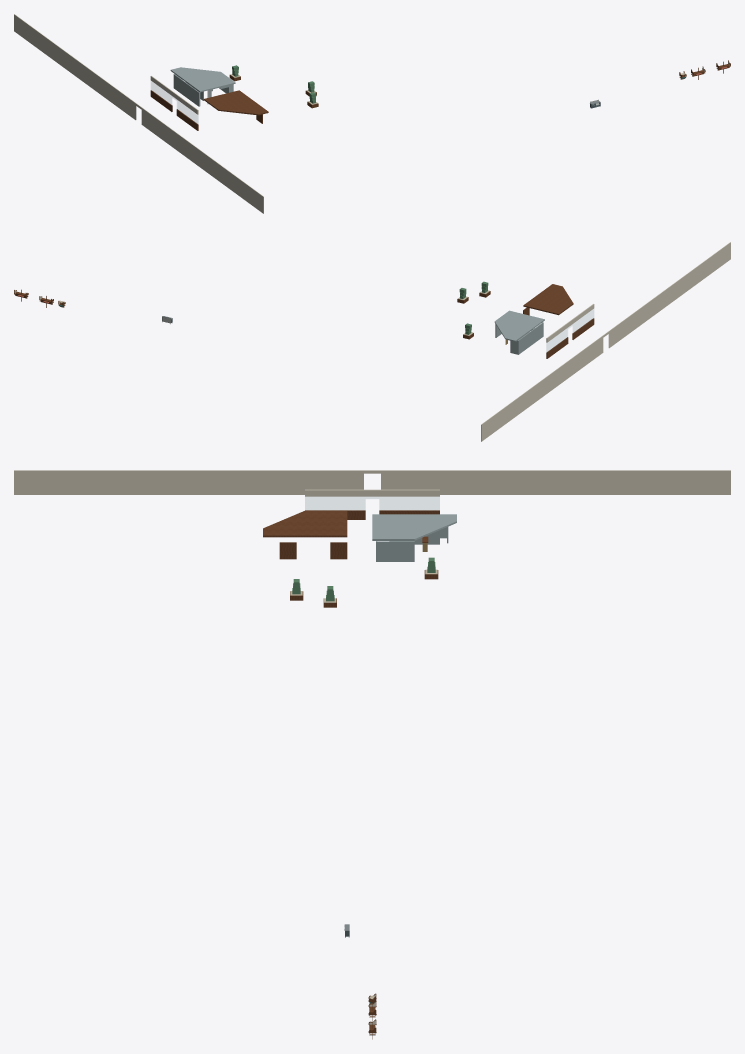
The model's file is D04_PORT_CENTRAL_COMMONS_PATCH_r001.glb.
3 views of the same model, one above another, from view 1: azimuth 30°, elevation 25°; view 2: azimuth 150°, elevation 25°; view 3: azimuth 270°, elevation 25° (orthographic). The views are drawn at different scales.
Visible parts, largest first — view 1: PCW_EastEnclosure4, PCC_QuietLowCanopy, PCC_ServiceLowCanopy, PCC_ServiceWest, PCC_PerimeterGlass_11_0, PCC_PerimeterDado_11_0; view 2: PCW_EastEnclosure4, PCC_ServiceLowCanopy, PCC_QuietLowCanopy, PCC_ServiceWest, PCC_PerimeterGlass_11_0, PCC_PerimeterDado_11_0; view 3: PCW_EastEnclosure4, PCC_QuietLowCanopy, PCC_ServiceLowCanopy, PCC_PerimeterGlass_11_0, PCC_PerimeterHead_11_0.
Boxes of the visible parts, x1,y1,x2,y2 form: PCW_EastEnclosure4: (14,14,263,213); PCC_QuietLowCanopy: (203,90,268,115); PCC_ServiceLowCanopy: (170,67,235,92); PCC_ServiceWest: (173,74,199,106); PCC_PerimeterGlass_11_0: (151,81,198,123); PCC_PerimeterDado_11_0: (150,90,198,130); PCW_EastEnclosure4: (481,242,730,441); PCC_ServiceLowCanopy: (494,310,544,341); PCC_QuietLowCanopy: (523,284,573,315); PCC_ServiceWest: (517,322,543,354); PCC_PerimeterGlass_11_0: (546,309,593,351); PCC_PerimeterDado_11_0: (546,318,594,358); PCW_EastEnclosure4: (14,470,730,494); PCC_QuietLowCanopy: (263,510,347,537); PCC_ServiceLowCanopy: (372,514,456,540); PCC_PerimeterGlass_11_0: (305,497,439,510); PCC_PerimeterHead_11_0: (305,489,439,496).
Size of the model in its own units: 116 by 21.53 by 85.
54 materials, 50 textured.
